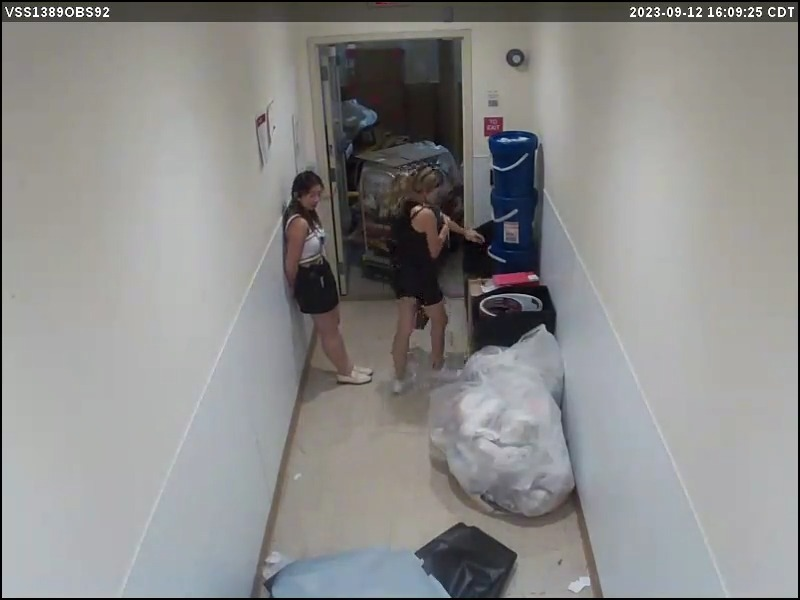No-gloves: (462, 223, 484, 250)
